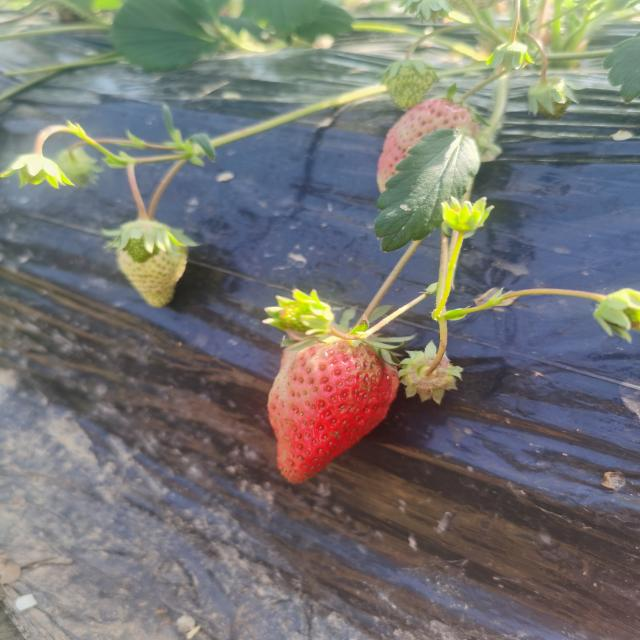stem: (354, 285, 389, 326), (458, 81, 488, 101)
strawberry: (268, 341, 400, 484), (378, 99, 477, 192)
